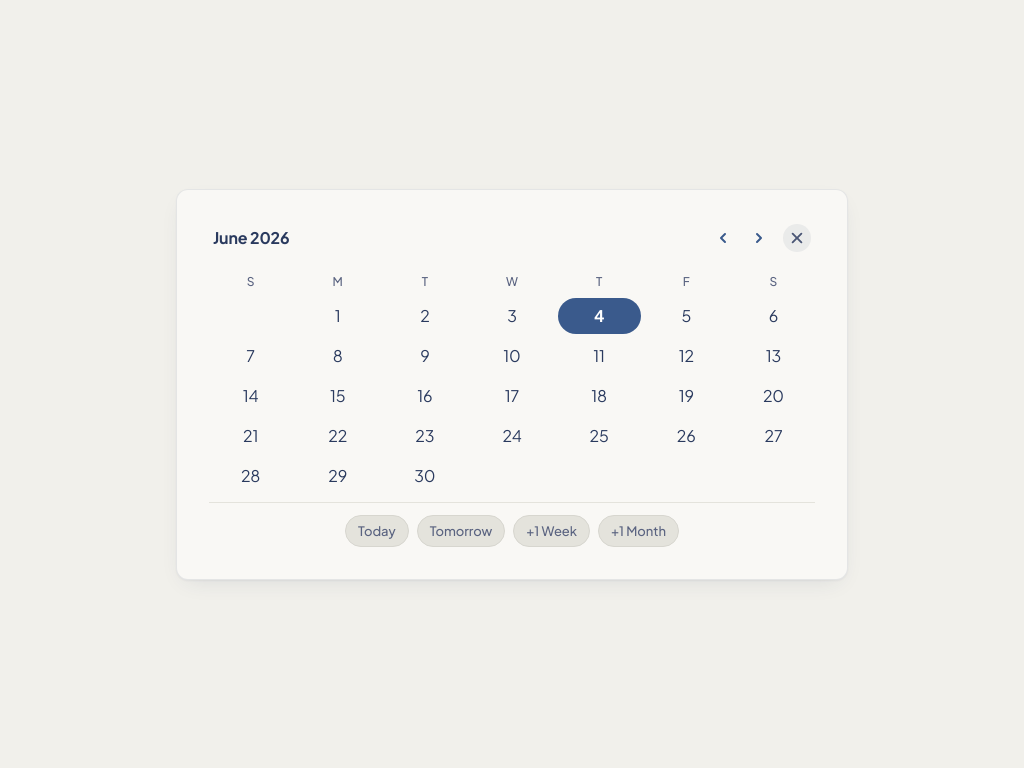
it: DatePickerCallout › navigates to next month
Step 1. Click the button named "Next month" → (759, 238), box x1=743 y1=222 x2=775 y2=254
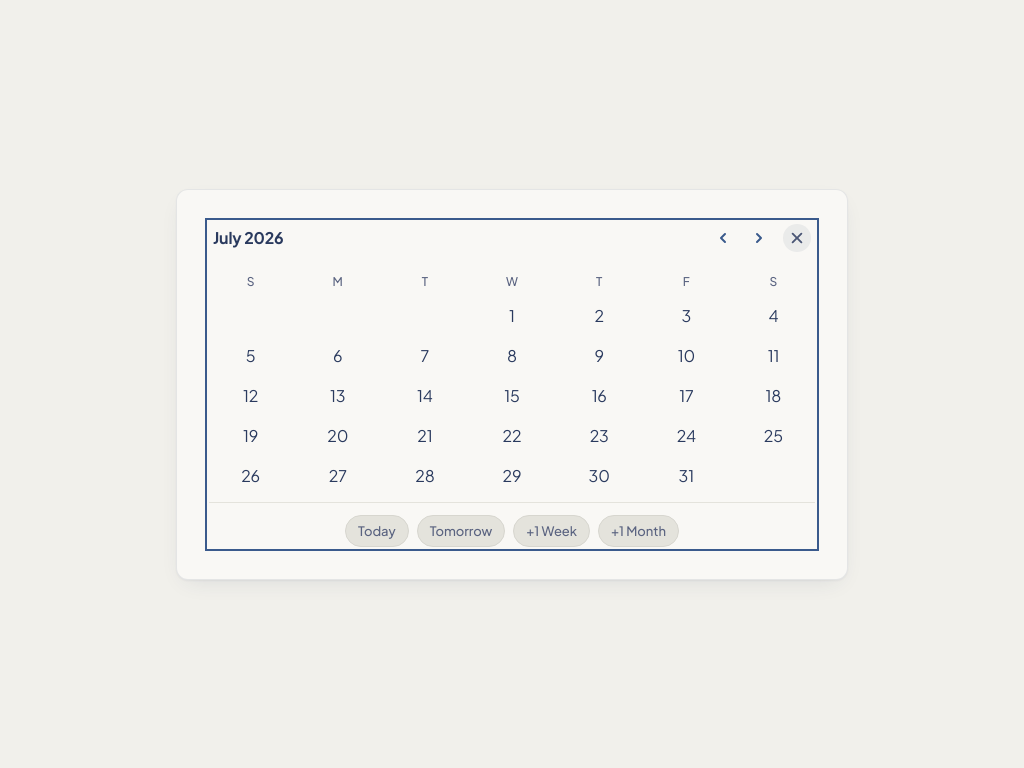
Expected: the text "July 2026" is shown, x1=213 y1=227 x2=284 y2=248
